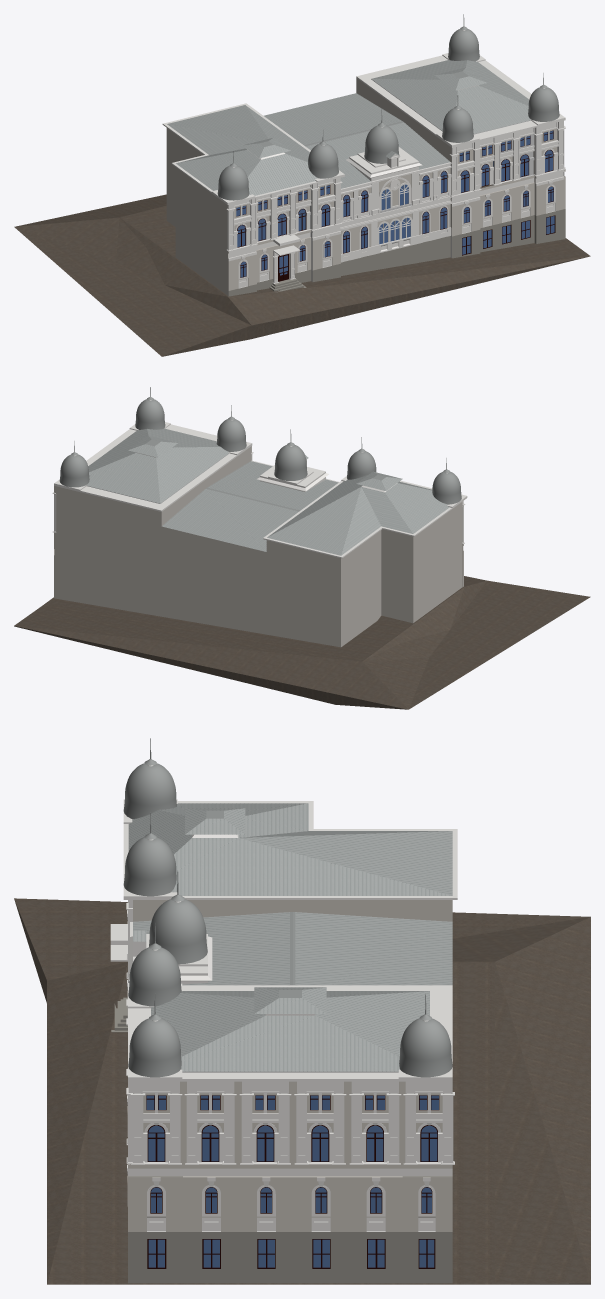
The model's file is Uchilische-Culturi.glb.
The picture shows the model from 3 angles, top to bottom: view 1: azimuth 30°, elevation 25°; view 2: azimuth 150°, elevation 25°; view 3: azimuth 270°, elevation 25°; orthographic projection. The views are drawn at different scales.
Parts seen in each view (by area): view 1: root; view 2: root; view 3: root.
Part boxes in pixels (box(x1,y1,x2,y2)): root: box(14, 14, 590, 356); root: box(14, 387, 590, 709); root: box(14, 738, 590, 1284).
Bounding box in the file's own units: 55.27 × 19.76 × 37.12.
9 materials, 2 textured.
